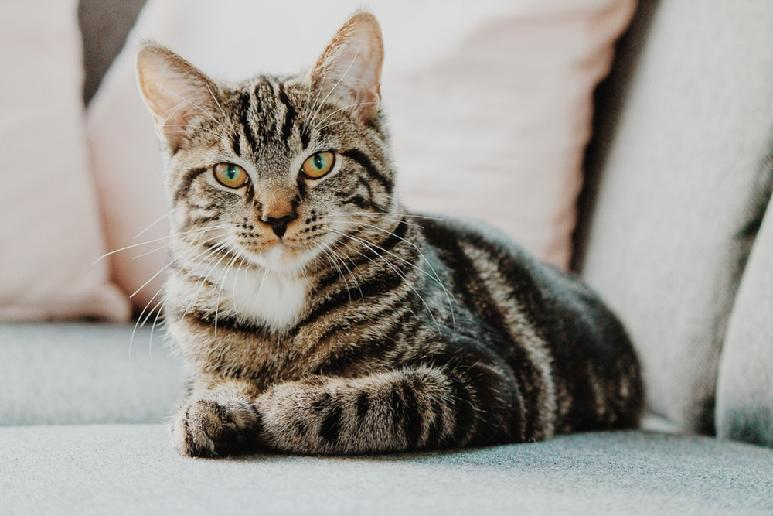Cat: (118, 2, 656, 468)
